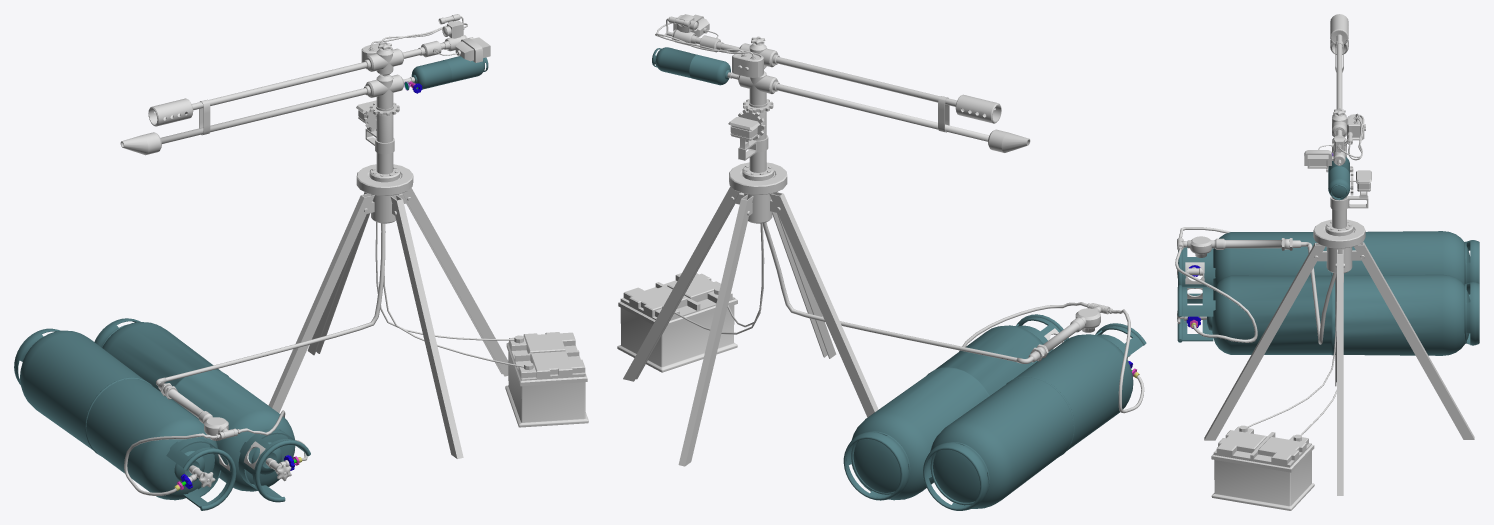
Rendered from Firethrow.fbx.
3 views of the same model, side by side, from view 1: azimuth 30°, elevation 25°; view 2: azimuth 150°, elevation 25°; view 3: azimuth 270°, elevation 25° (orthographic). The views are drawn at different scales.
Visible parts, largest first — view 1: Baloon, Legs, Batery, stvol up, Stvol down, Base.001, LPG Bottle 02.001, Top, Motor, Block; view 2: Baloon, Legs, Batery, stvol up, Stvol down, Base.001, LPG Bottle 02.001, Motor, Top, PC; view 3: Baloon, Batery, Legs, Base.001, Motor, stvol up, LPG Bottle 02.001, Block, PC, Top.
Boxes of the visible parts, <box> form: Baloon: <box>14,223,385,510</box>; Legs: <box>268,188,508,459</box>; Batery: <box>375,222,588,427</box>; stvol up: <box>148,42,445,126</box>; Stvol down: <box>120,88,367,155</box>; Base.001: <box>356,164,413,223</box>; LPG Bottle 02.001: <box>403,56,488,93</box>; Top: <box>364,48,404,109</box>; Motor: <box>356,100,394,174</box>; Block: <box>455,37,490,62</box>; Baloon: <box>762,222,1146,510</box>; Legs: <box>623,186,878,466</box>; Batery: <box>617,223,764,372</box>; stvol up: <box>695,37,1001,123</box>; Stvol down: <box>776,83,1030,152</box>; Base.001: <box>729,162,787,223</box>; LPG Bottle 02.001: <box>652,47,738,85</box>; Motor: <box>728,111,768,172</box>; Top: <box>738,43,779,105</box>; PC: <box>732,50,763,77</box>; Baloon: <box>1175,227,1479,355</box>; Batery: <box>1211,273,1343,510</box>; Legs: <box>1204,242,1474,495</box>; Base.001: <box>1313,219,1365,273</box>; Motor: <box>1330,170,1371,228</box>; stvol up: <box>1330,14,1348,135</box>; LPG Bottle 02.001: <box>1328,153,1350,200</box>; Block: <box>1304,150,1333,168</box>; PC: <box>1347,114,1365,140</box>; Top: <box>1332,114,1346,157</box>.
Size of the model in its own units: 244 by 150 by 182.
